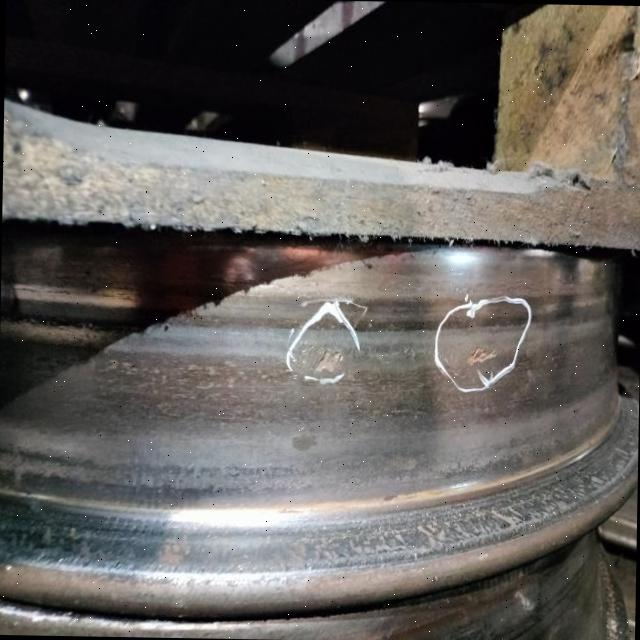Blue hole: (316, 350, 343, 373), (468, 347, 498, 367)
